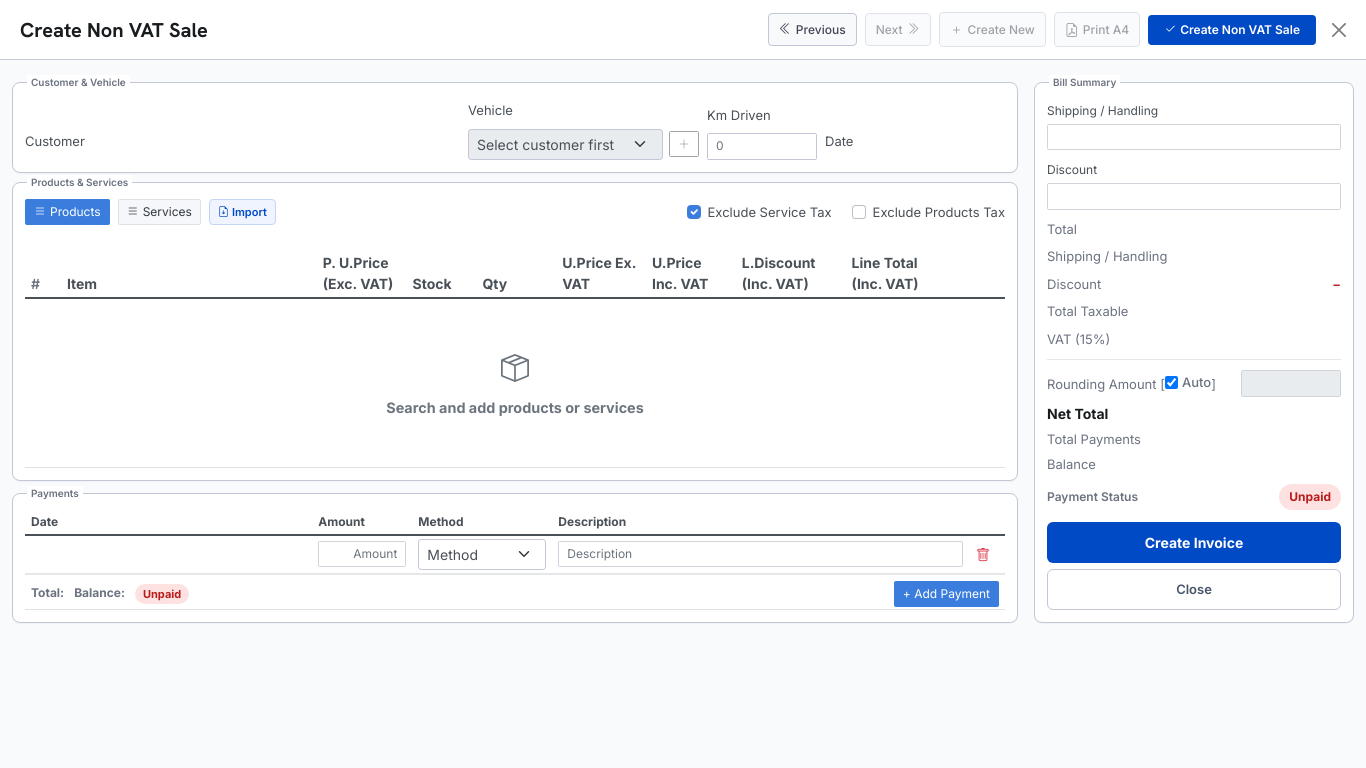
Test: Non VAT Sale form — Exclude Products Tax › stays ticked after the recalculation that follows the click
Click the checkbox labelled "Exclude Products Tax": {"x": 859, "y": 212} [852, 204, 866, 218]
Wait 400 ms
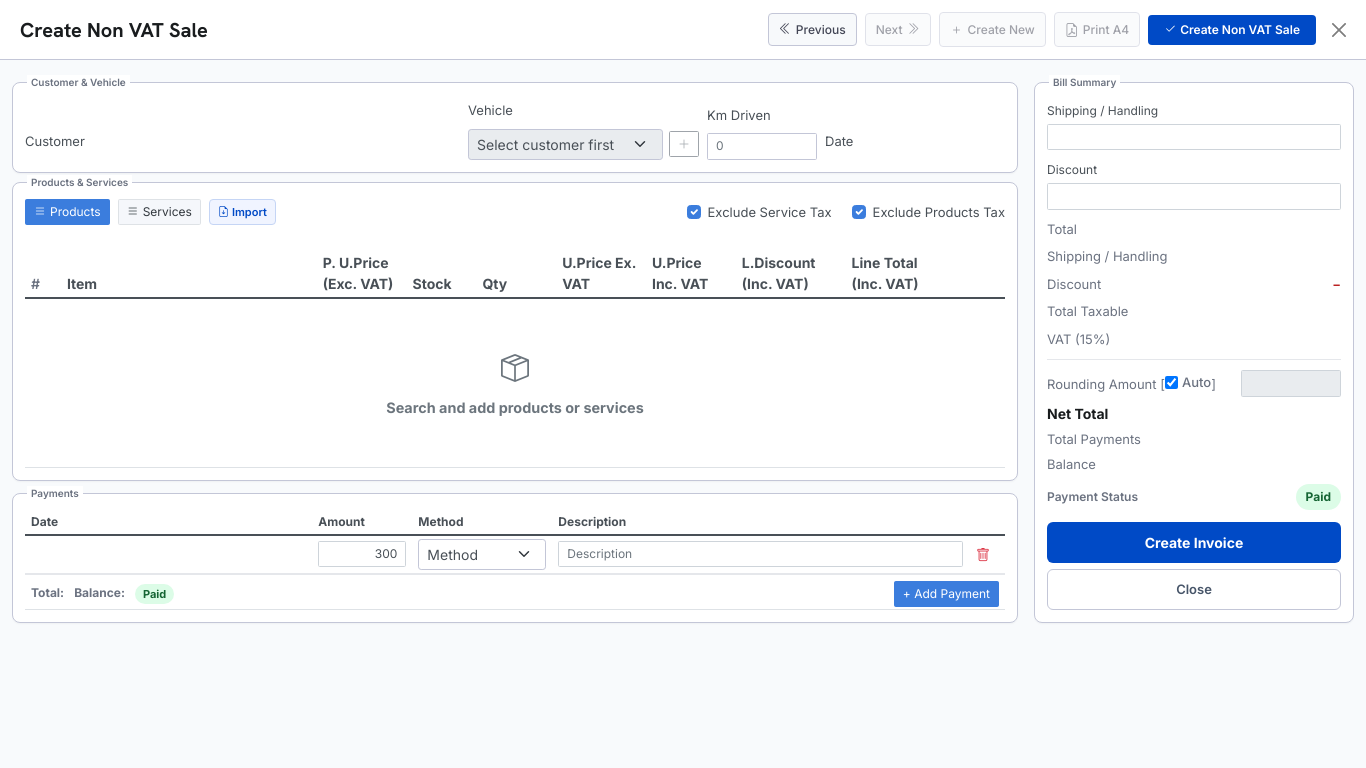
Result: the checkbox labelled "Exclude Products Tax" is checked at [852, 204, 866, 218]
